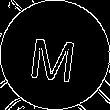M_N: (29, 27, 81, 83)
